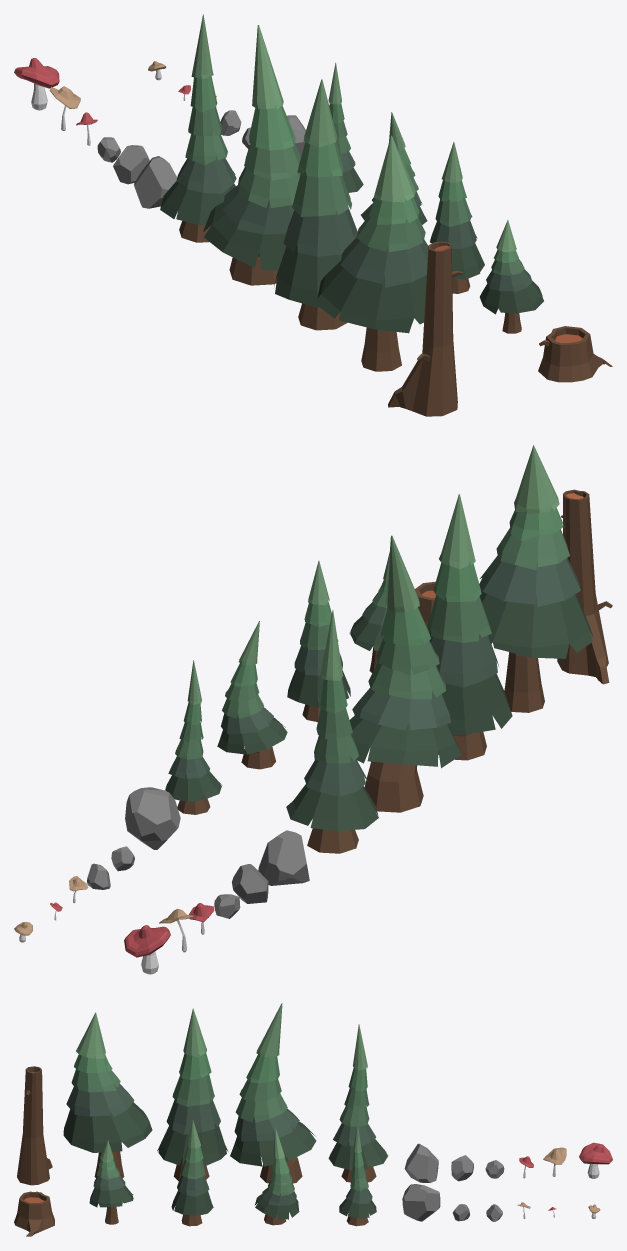
The model's file is Forrest_Assetpack_LowPoly.glb.
The picture shows the model from 3 angles, top to bottom: view 1: azimuth 30°, elevation 25°; view 2: azimuth 150°, elevation 25°; view 3: azimuth 270°, elevation 25°; orthographic projection. The views are drawn at different scales.
Parts seen in each view (by area): view 1: Plane.019, Circle.005, Circle.004, Circle.007, Circle.015, Plane.018, Circle.014, Circle.016, Circle.008, Circle.036, Circle.001, Circle.009 (+23 smaller); view 2: Circle.005, Plane.019, Circle.007, Circle.004, Circle.036, Circle.014, Circle.008, Sphere.002, Circle.015, Cylinder.002, Circle.016, Sphere (+26 smaller); view 3: Circle.005, Plane.019, Circle.007, Circle.014, Circle.004, Circle.015, Circle.008, Plane.018, Sphere.002, Circle.036, Circle.016, Sphere (+25 smaller).
Part boxes in pixels (left/top/right/bottom): Plane.019: left=388, top=241, right=463, bottom=416; Circle.005: left=314, top=261, right=426, bottom=333; Circle.004: left=340, top=237, right=428, bottom=287; Circle.007: left=203, top=202, right=286, bottom=270; Circle.015: left=283, top=209, right=357, bottom=256; Plane.018: left=538, top=326, right=612, bottom=382; Circle.014: left=274, top=244, right=341, bottom=307; Circle.016: left=292, top=171, right=351, bottom=216; Circle.008: left=222, top=184, right=294, bottom=234; Circle.036: left=160, top=181, right=235, bottom=224; Circle.001: left=357, top=216, right=425, bottom=251; Circle.009: left=237, top=167, right=300, bottom=207; Circle.005: left=480, top=589, right=593, bottom=658; Plane.019: left=557, top=489, right=612, bottom=684; Circle.007: left=349, top=710, right=461, bottom=768; Circle.004: left=479, top=554, right=580, bottom=606; Circle.036: left=286, top=780, right=378, bottom=830; Circle.014: left=442, top=673, right=512, bottom=734; Circle.008: left=352, top=688, right=450, bottom=730; Sphere.002: left=125, top=787, right=180, bottom=849; Circle.015: left=429, top=630, right=499, bottom=687; Cylinder.002: left=364, top=761, right=423, bottom=812; Circle.016: left=427, top=595, right=491, bottom=642; Sphere: left=258, top=830, right=309, bottom=885; Circle.005: left=63, top=1102, right=152, bottom=1152; Plane.019: left=17, top=1066, right=52, bottom=1185; Circle.007: left=230, top=1121, right=316, bottom=1166; Circle.014: left=157, top=1123, right=228, bottom=1166; Circle.004: left=66, top=1084, right=134, bottom=1116; Circle.015: left=166, top=1099, right=220, bottom=1134; Circle.008: left=234, top=1108, right=299, bottom=1141; Plane.018: left=14, top=1191, right=54, bottom=1236; Sphere.002: left=402, top=1184, right=440, bottom=1221; Circle.036: left=328, top=1138, right=387, bottom=1169; Circle.016: left=172, top=1074, right=214, bottom=1106; Sphere: left=404, top=1143, right=438, bottom=1182.
Size of the model in its own units: 8.74 by 9.08 by 28.06.
